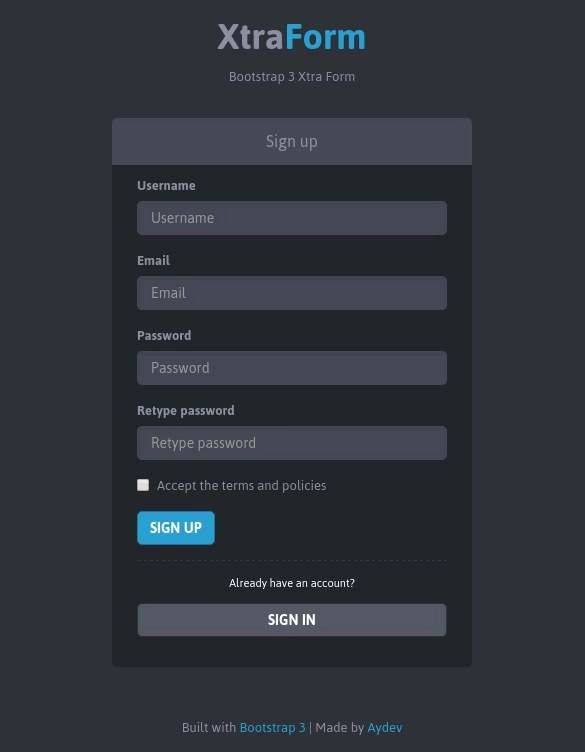_form_: (109, 177, 464, 589), (116, 251, 464, 659)
button: (135, 601, 450, 637), (135, 508, 217, 548)
checkbox: (135, 476, 149, 493)
checkbox_with_label: (132, 475, 327, 495)
field: (134, 423, 448, 463), (133, 348, 452, 387), (135, 199, 450, 238), (132, 274, 450, 312)
field_with_label: (131, 404, 451, 465), (131, 330, 454, 390), (128, 256, 452, 315), (133, 181, 454, 240)
